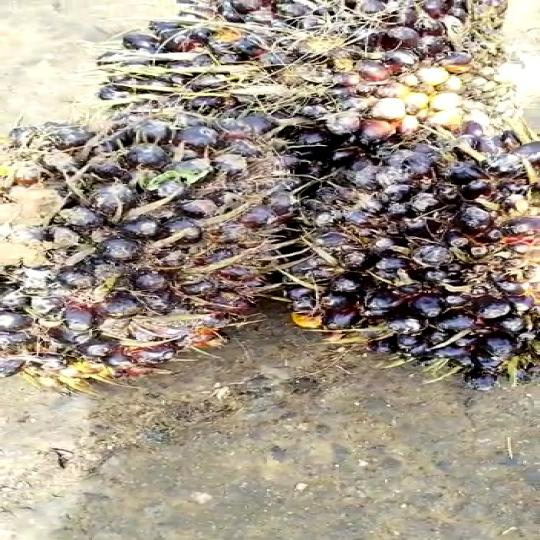mentah: (0, 119, 328, 385), (266, 123, 540, 397), (99, 0, 532, 149)
